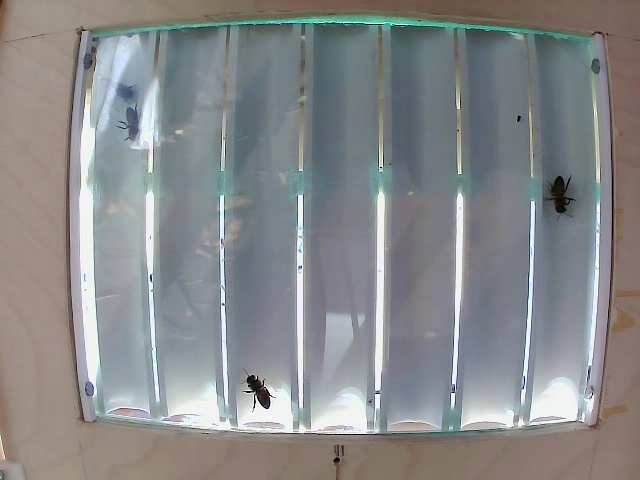bee: (542, 162, 584, 223), (242, 363, 277, 400)
